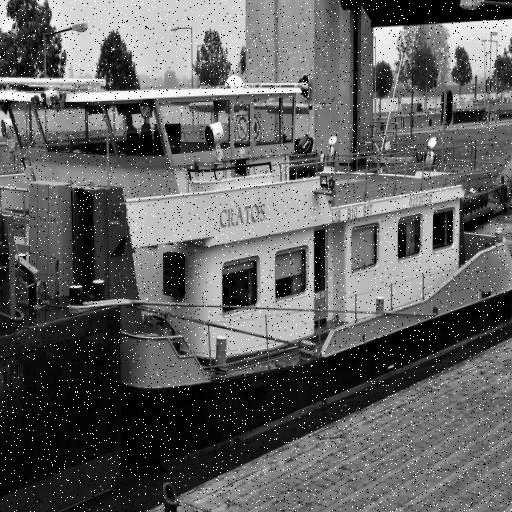tugboat: (1, 61, 512, 506)
